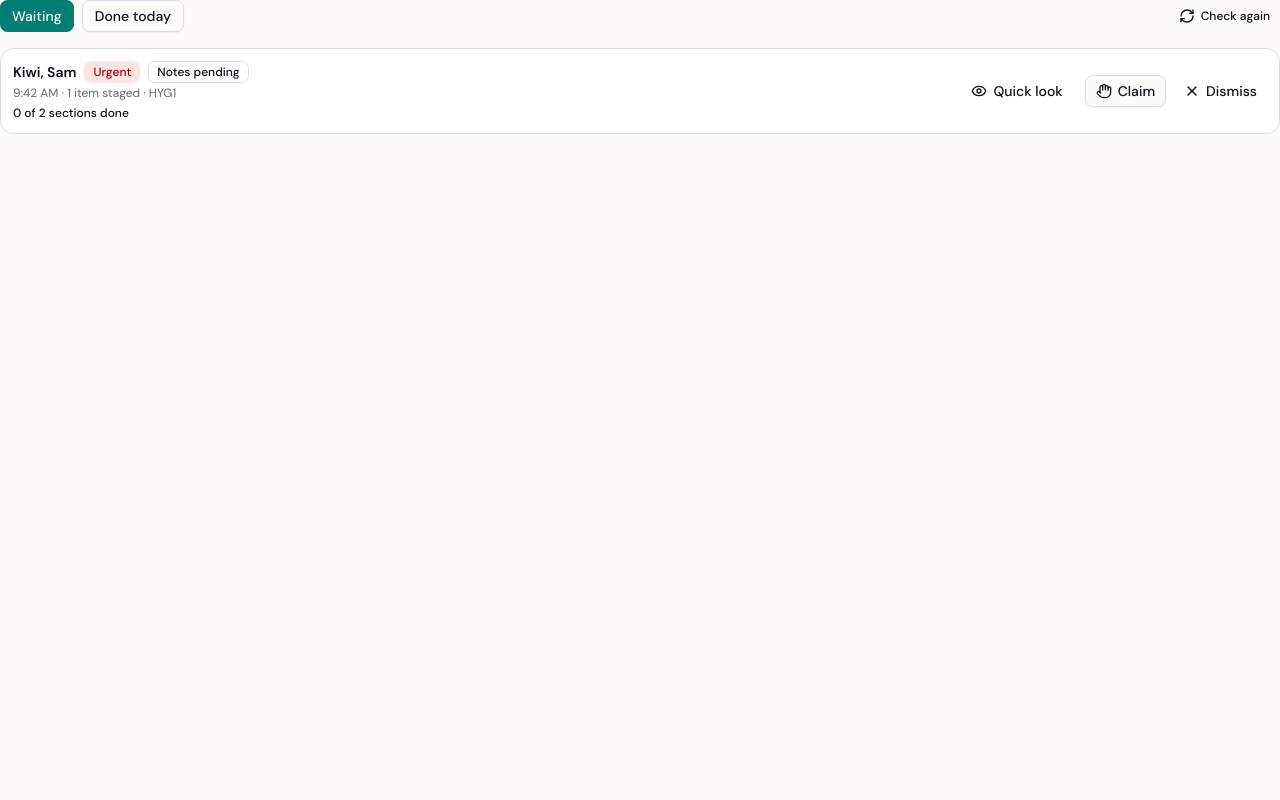
Scenario: the Checkout inbox › Quick look opens the sidebar, which renders the snapshot
Click the button with test id "checkout-row-quicklook": (1017, 91) [962,75,1073,107]
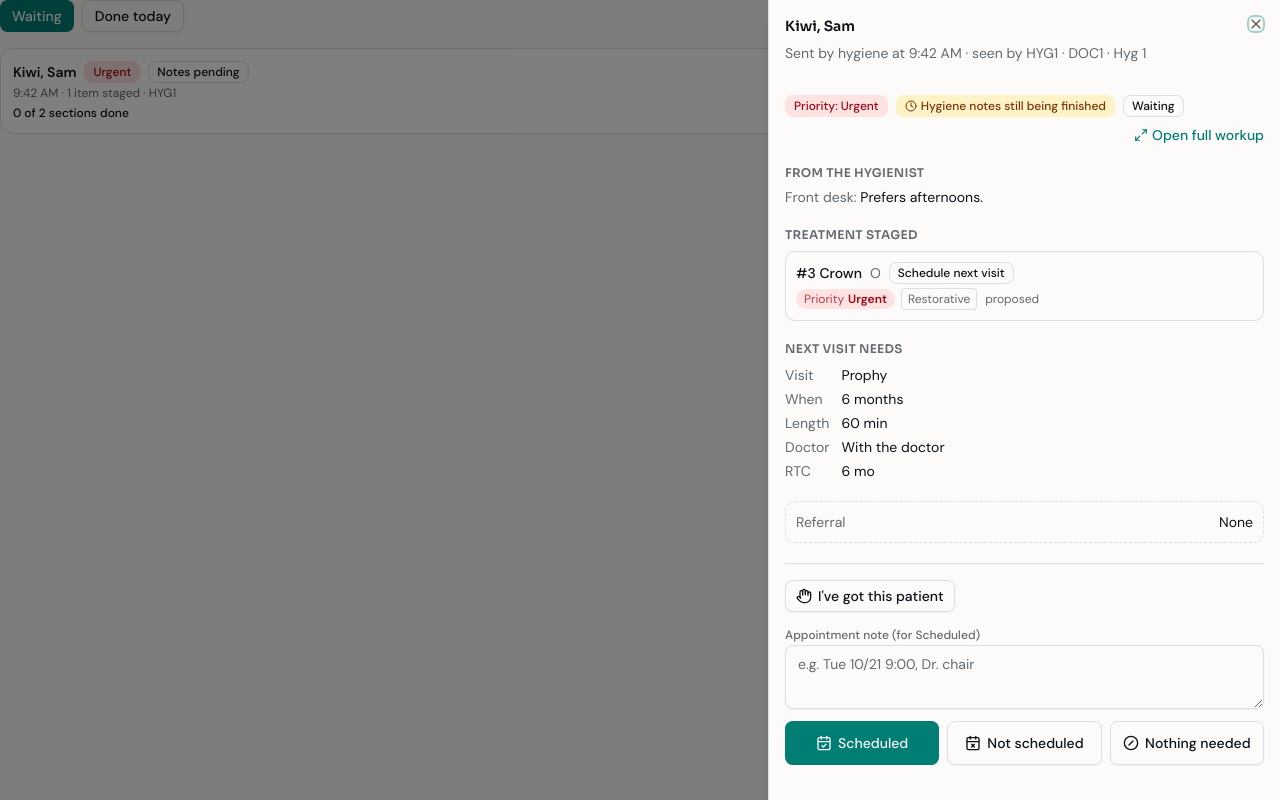
Expected: the list with test id "checkout-procedures" shows "#3 Crown", [785,251,1264,321]
Expected: the text with test id "checkout-priority" reads "Priority: Urgent", [785,95,888,117]
Expected: the element with test id "checkout-notes-pending" is shown, [896,95,1115,117]
